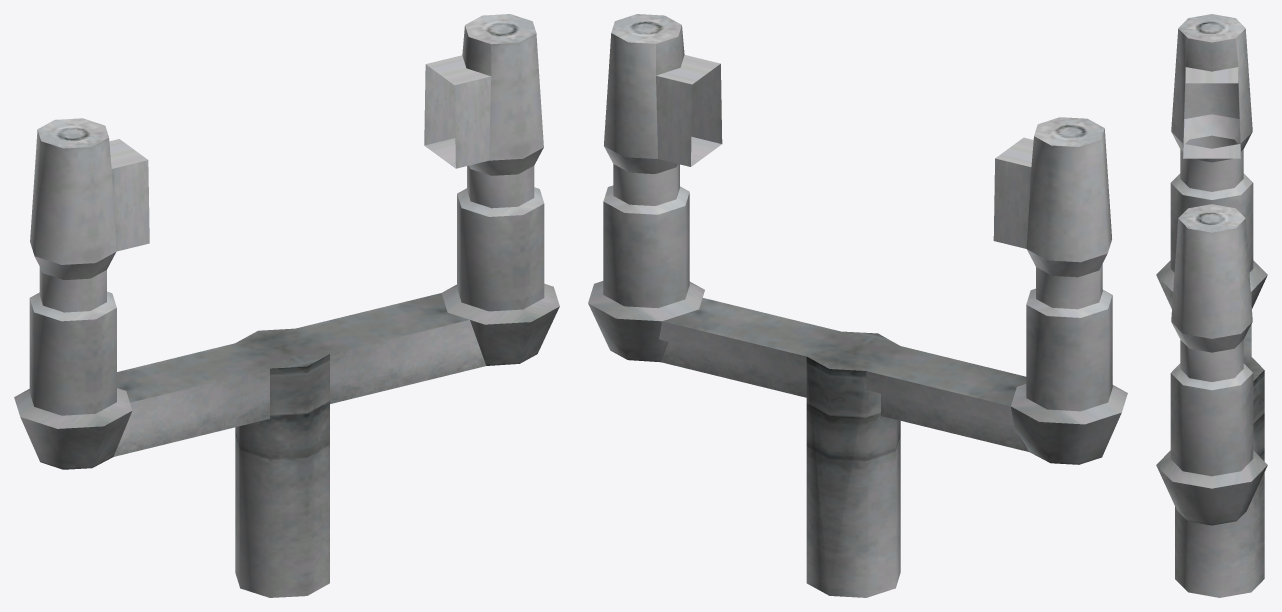
The model's file is ykl37r_turret_base_l0.fbx.
3 renders of one model, left to right at view 1: azimuth 30°, elevation 25°; view 2: azimuth 150°, elevation 25°; view 3: azimuth 270°, elevation 25°, orthographic. The views are drawn at different scales.
Parts seen in each view (by area): view 1: mesh_node; view 2: mesh_node; view 3: mesh_node.
Boxes of the visible parts, x1=… form: mesh_node: x1=14, y1=14, x2=559, y2=597; mesh_node: x1=588, y1=14, x2=1127, y2=597; mesh_node: x1=1156, y1=14, x2=1267, y2=597.
Bounding box in the file's own units: 1.73 × 1.55 × 0.3448.
1 material, 1 textured.
